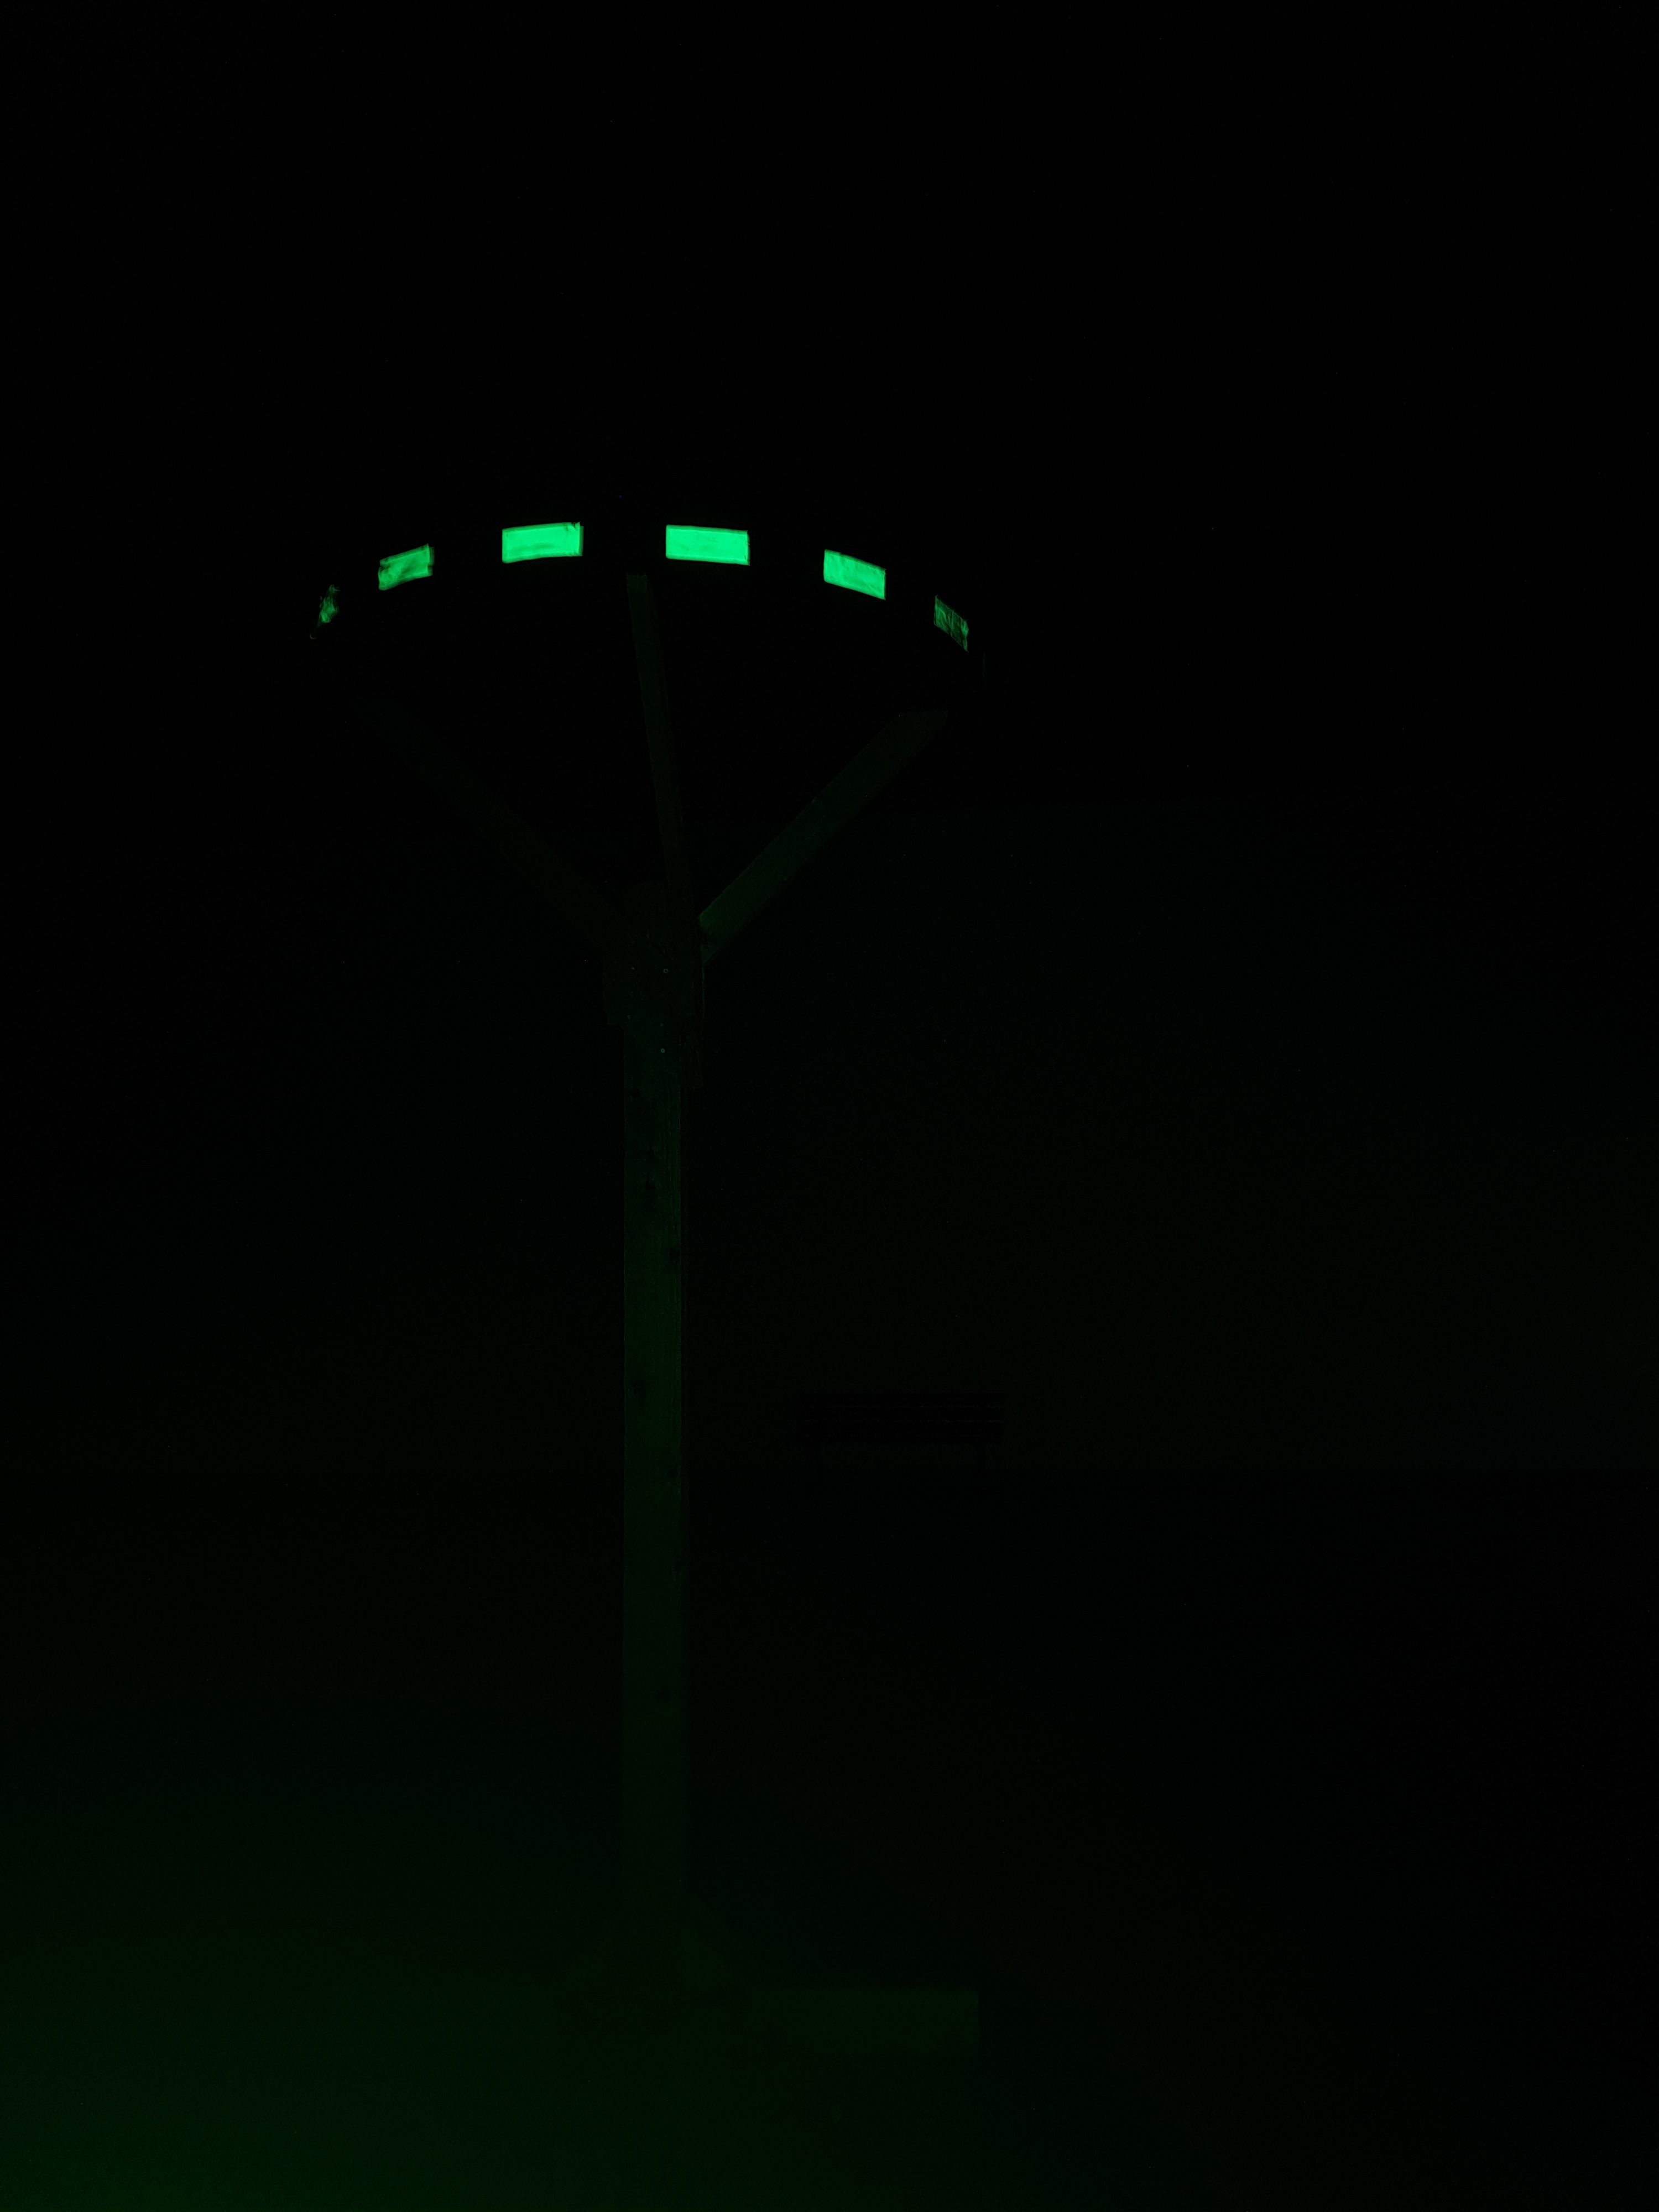hoop: (319, 517, 971, 664)
